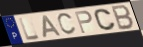A: (42, 15, 63, 39)
B: (111, 4, 135, 31)
C: (93, 9, 117, 32), (57, 12, 78, 36)
L: (18, 16, 42, 42)
P: (73, 10, 94, 35)
